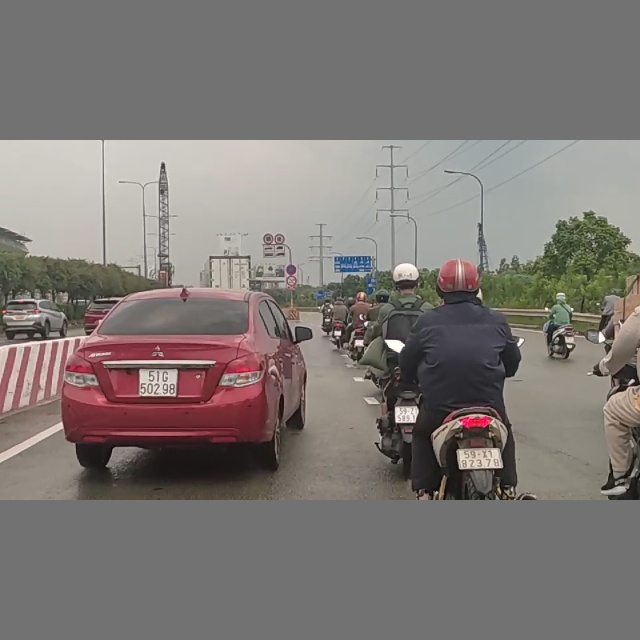P.130: (285, 264, 297, 275)
